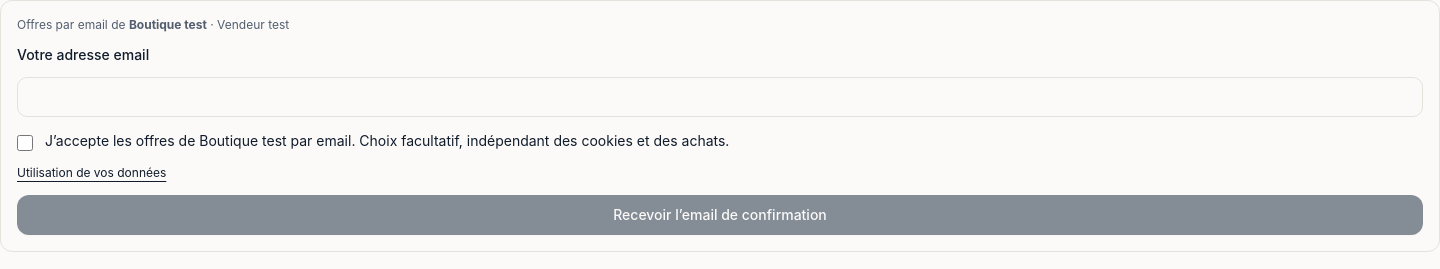
optional email subscription › requires its own unchecked choice even after all cookies are accepted
Expected: the checkbox is not checked, 17,135 -> 33,151
Expected: the button "Recevoir l’email de confirmation" is disabled, 17,195 -> 1423,235
Type "buyer@example.test" into the field labelled "Votre adresse email" at {"x": 720, "y": 97}, box 17,77 -> 1423,117
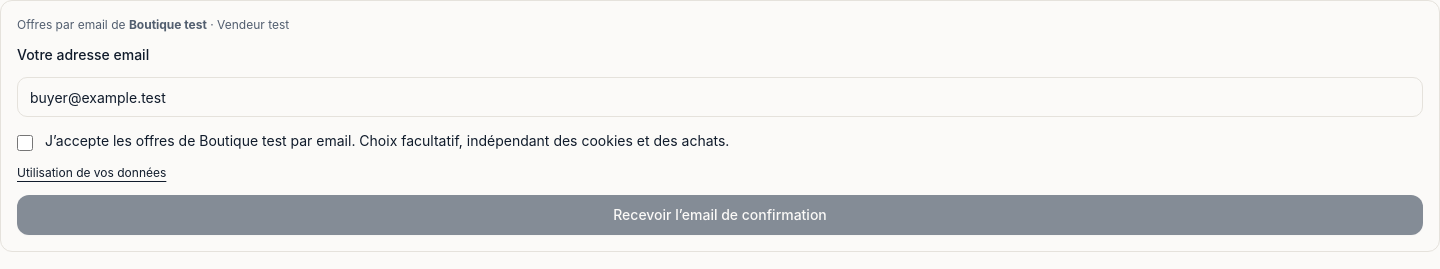
Submit the form
Click the checkbox at {"x": 25, "y": 143}, box 17,135 -> 33,151
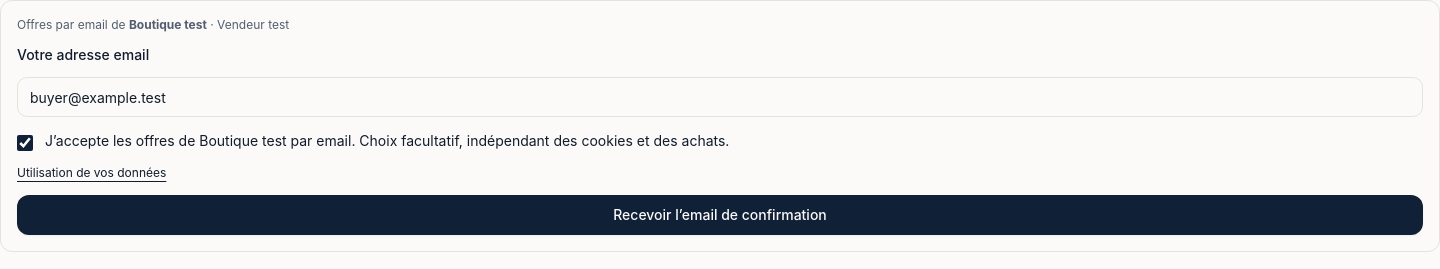
Click the button "Recevoir l’email de confirmation" at {"x": 720, "y": 215}, box 17,195 -> 1423,235
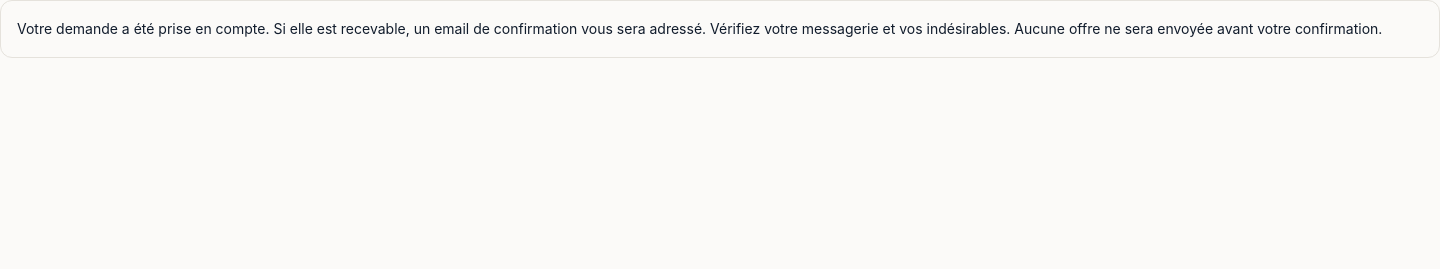
Expected: the text "Aucune offre ne sera envoyée avant votre confirmation" is shown, 17,20 -> 1382,37
